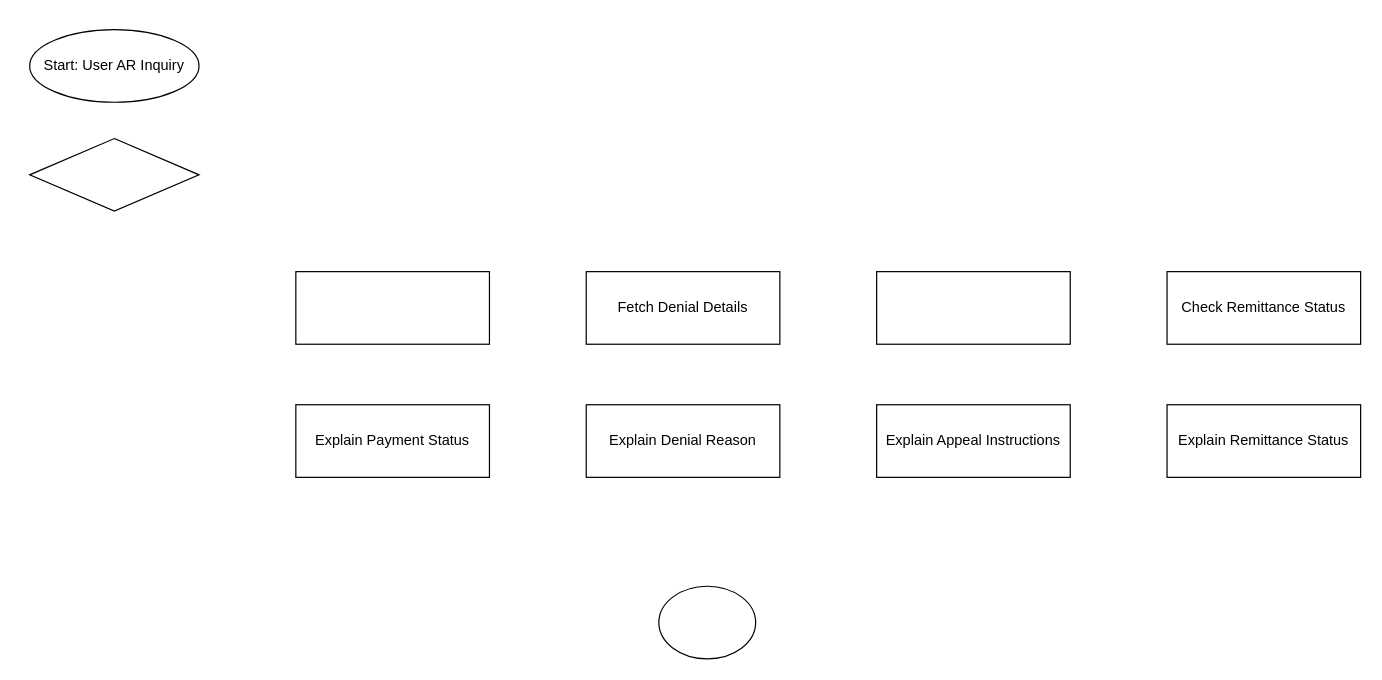
Image size: 1382x680. Some labels were removed from this diagram. The shapes that lost their labels are listed below. From the top down, each one's centre as x and y in pixels, then its label:
At point (113, 174): "Identify Intent".
At point (392, 307): "Fetch Payment Details".
At point (972, 307): "Retrieve Appeal Steps".
At point (707, 622): "End".
